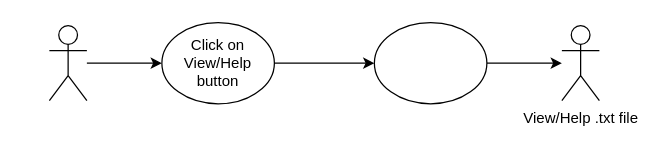
This 660x148 diagram has some shape labels left out. The shapes that lost their labels are listed below. From the top down, each one's centre as x and y in pixels, then its label:
At pixel 67 62: "Moodipy User".
At pixel 430 62: "Open .txt file content in GUI window".
